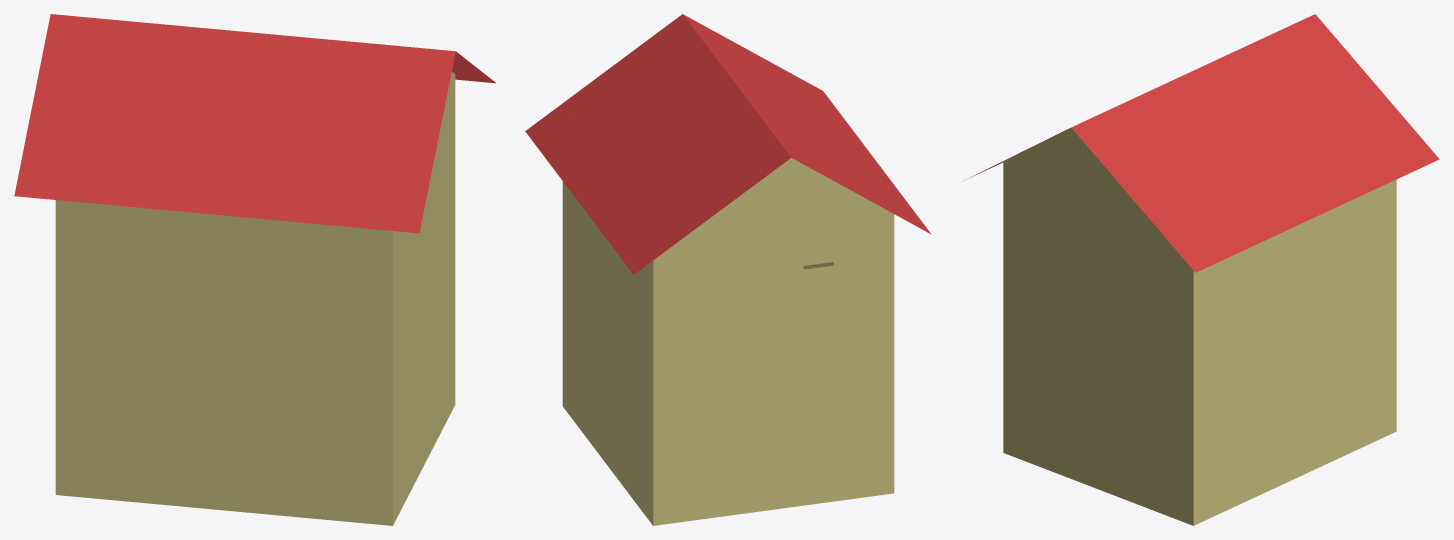
3 views of the same model, side by side, from view 1: azimuth 30°, elevation 25°; view 2: azimuth 150°, elevation 25°; view 3: azimuth 270°, elevation 25° (orthographic). The views are drawn at different scales.
Size of the model in its own units: 11.9 by 11.83 by 10.04.
